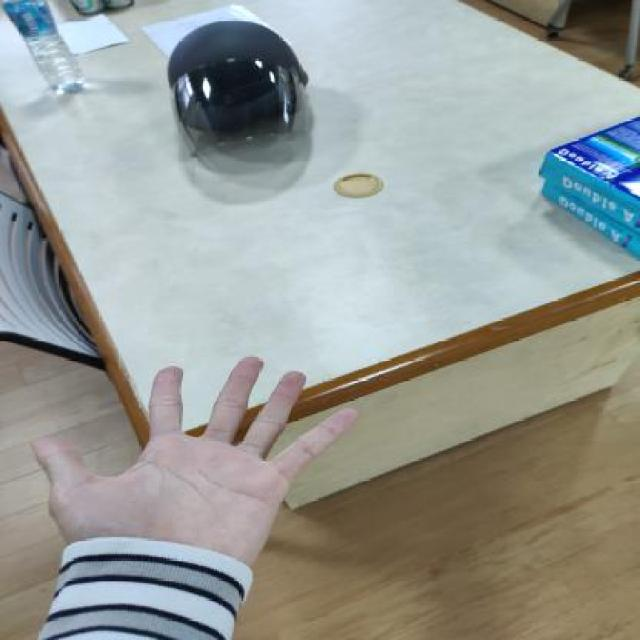no_glove: (15, 342, 374, 595)
